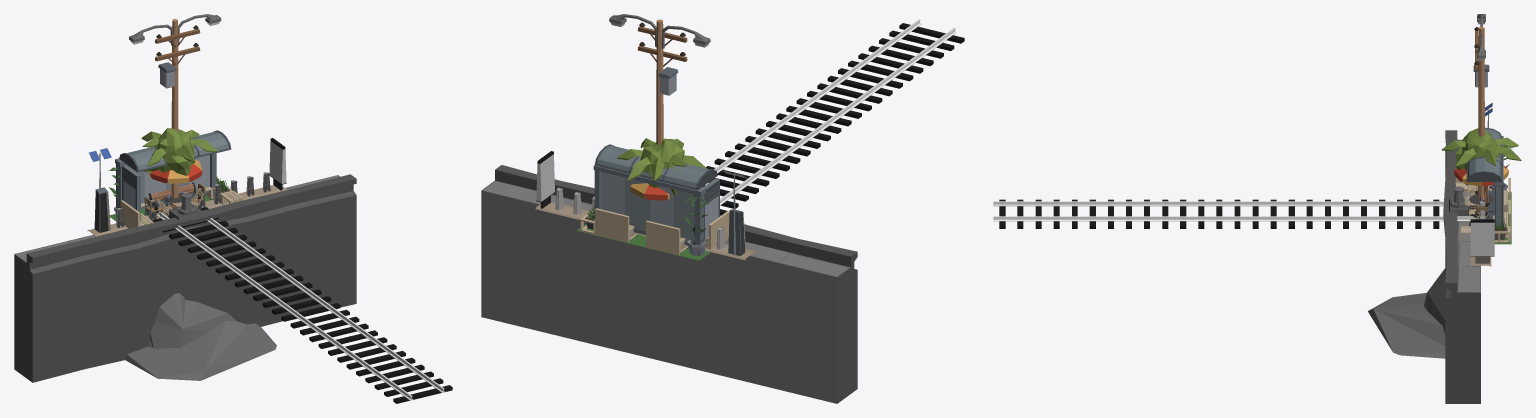
The model's file is street-props.glb.
3 renders of one model, left to right at view 1: azimuth 30°, elevation 25°; view 2: azimuth 150°, elevation 25°; view 3: azimuth 270°, elevation 25°, orthographic. The views are drawn at different scales.
Visible parts, largest first — view 1: sea_wall, track, transit-shelter-1, bike_share, utility_pole, parklet, tree-01, outdoor_dining, palmtree, street-light-double; view 2: sea_wall, track, transit-shelter-1, parklet, bike_share, utility_pole, palmtree, tree-01, street-light-double, outdoor_dining; view 3: sea_wall, track, transit-shelter-1, bike_share, parklet, utility_pole, palmtree, tree-01, outdoor_dining.
Boxes of the visible parts, x1,y1,x2,y2 form: sea_wall: (14, 174, 356, 382); track: (151, 207, 452, 403); transit-shelter-1: (115, 130, 231, 220); bike_share: (87, 138, 286, 236); utility_pole: (155, 19, 200, 204); parklet: (109, 165, 243, 233); tree-01: (144, 128, 194, 208); outdoor_dining: (144, 159, 205, 219); palmtree: (141, 130, 218, 166); street-light-double: (129, 14, 221, 45); sea_wall: (481, 165, 857, 403); track: (703, 19, 964, 215); transit-shelter-1: (593, 144, 719, 255); parklet: (577, 194, 729, 260); bike_share: (535, 151, 755, 260); utility_pole: (637, 19, 687, 144); palmtree: (617, 138, 706, 181); tree-01: (640, 138, 684, 195); street-light-double: (609, 14, 710, 48); outdoor_dining: (630, 183, 669, 200); sea_wall: (1368, 130, 1480, 403); track: (993, 199, 1478, 228); transit-shelter-1: (1465, 127, 1503, 228); bike_share: (1470, 102, 1494, 266); parklet: (1455, 144, 1512, 244); utility_pole: (1473, 27, 1489, 199); palmtree: (1441, 132, 1521, 167); tree-01: (1456, 128, 1501, 206); outdoor_dining: (1454, 165, 1508, 219).
Bounding box in the file's own units: 15 × 13.69 × 21.91.
1 material, 1 textured.
